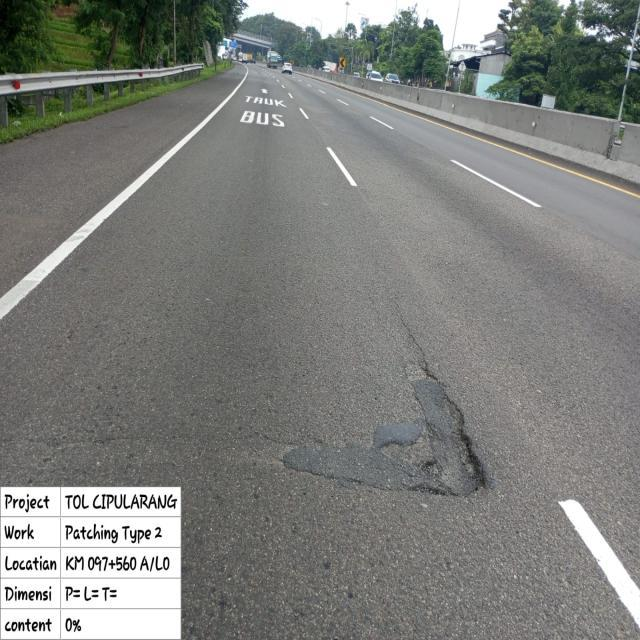Buraco: (373, 356, 492, 502)
